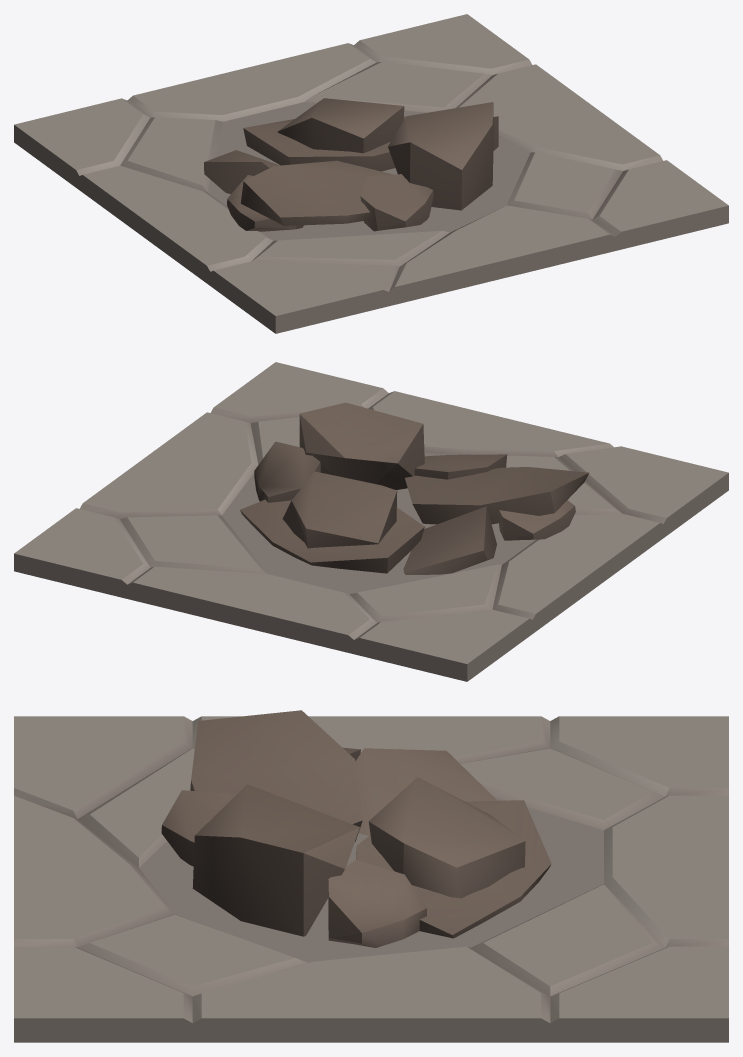
The model's file is floor_tile_large_rocks.glb.
The picture shows the model from 3 angles, top to bottom: view 1: azimuth 30°, elevation 25°; view 2: azimuth 150°, elevation 25°; view 3: azimuth 270°, elevation 25°; orthographic projection. The views are drawn at different scales.
Visible parts, largest first — view 1: floor_tile_large_rocks; view 2: floor_tile_large_rocks; view 3: floor_tile_large_rocks.
Boxes of the visible parts, left/top/right/bottom form: floor_tile_large_rocks: left=14, top=14, right=728, bottom=333; floor_tile_large_rocks: left=14, top=362, right=728, bottom=681; floor_tile_large_rocks: left=14, top=710, right=728, bottom=1042.
Size of the model in its own units: 4 by 0.6362 by 4.
1 material, 1 textured.
